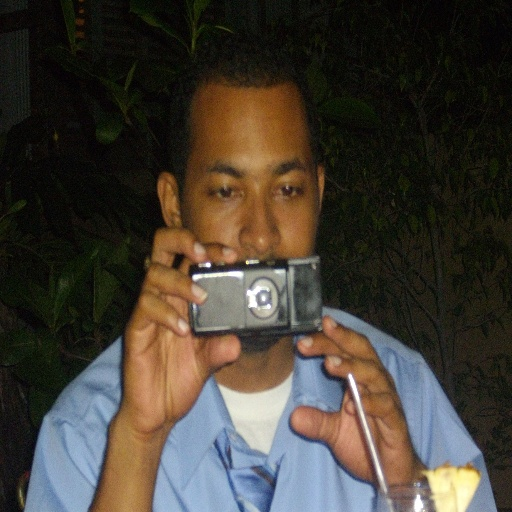hand: (75, 243, 242, 512), (289, 313, 417, 491)
